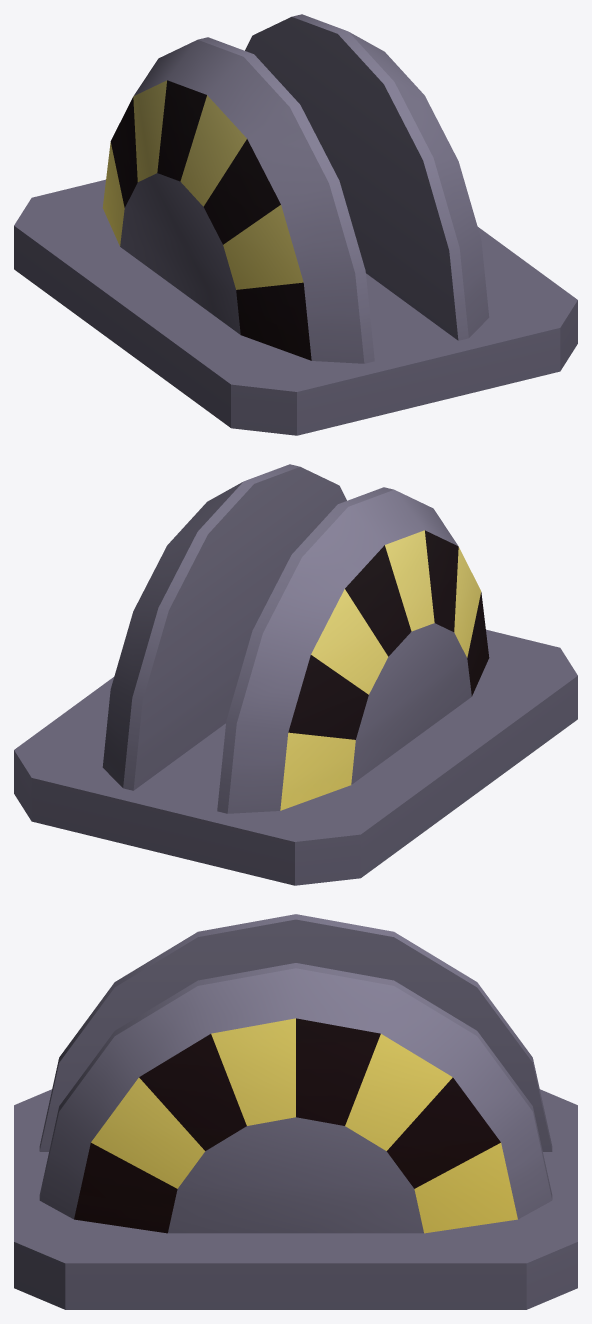
The model's file is lever_base.glb.
The picture shows the model from 3 angles, top to bottom: view 1: azimuth 30°, elevation 25°; view 2: azimuth 150°, elevation 25°; view 3: azimuth 270°, elevation 25°; orthographic projection. The views are drawn at different scales.
Parts seen in each view (by area): view 1: Sphere001; view 2: Sphere001; view 3: Sphere001.
Boxes of the visible parts, <box> form: Sphere001: <box>14,14,577,435</box>; Sphere001: <box>14,464,577,885</box>; Sphere001: <box>14,914,577,1309</box>.
Size of the model in its own units: 0.8299 by 0.6 by 1.1.
Materials: 1 (1 with a texture image).
